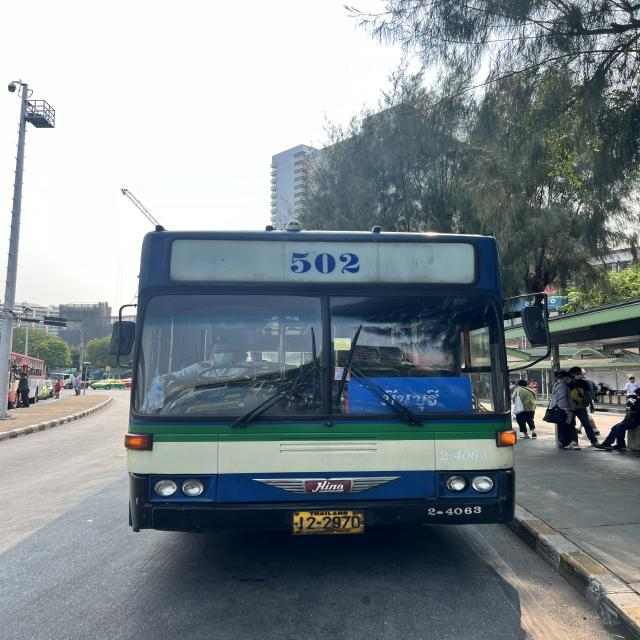BMTA-bus: (124, 229, 516, 539)
Bus-Line-Number: (271, 246, 378, 278)
Destination-Sign-Normal: (348, 374, 474, 416)
